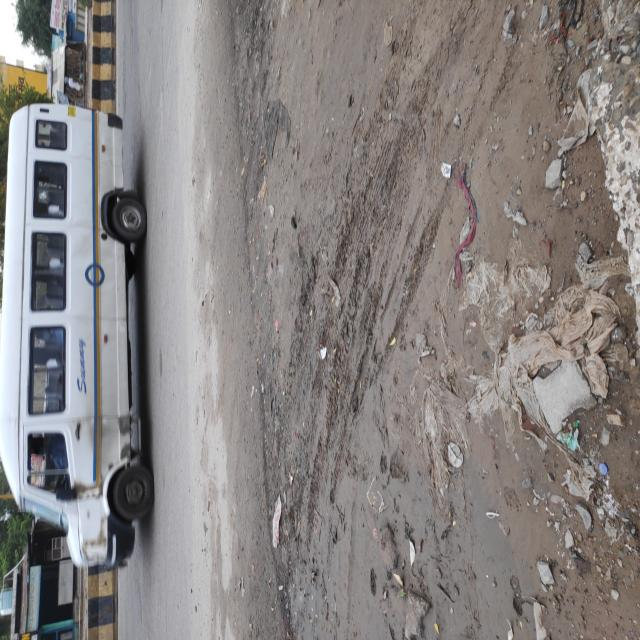Bus: (50, 0, 402, 210)
